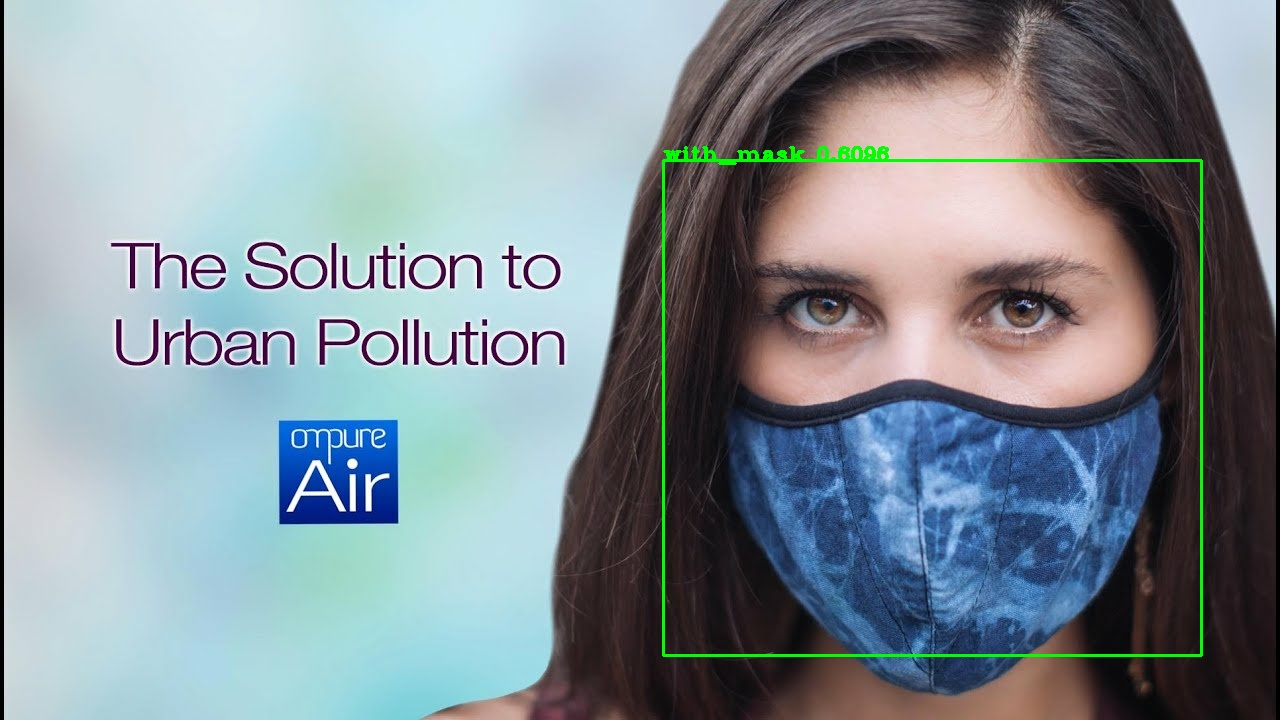with_mask: (690, 120, 1221, 691)
